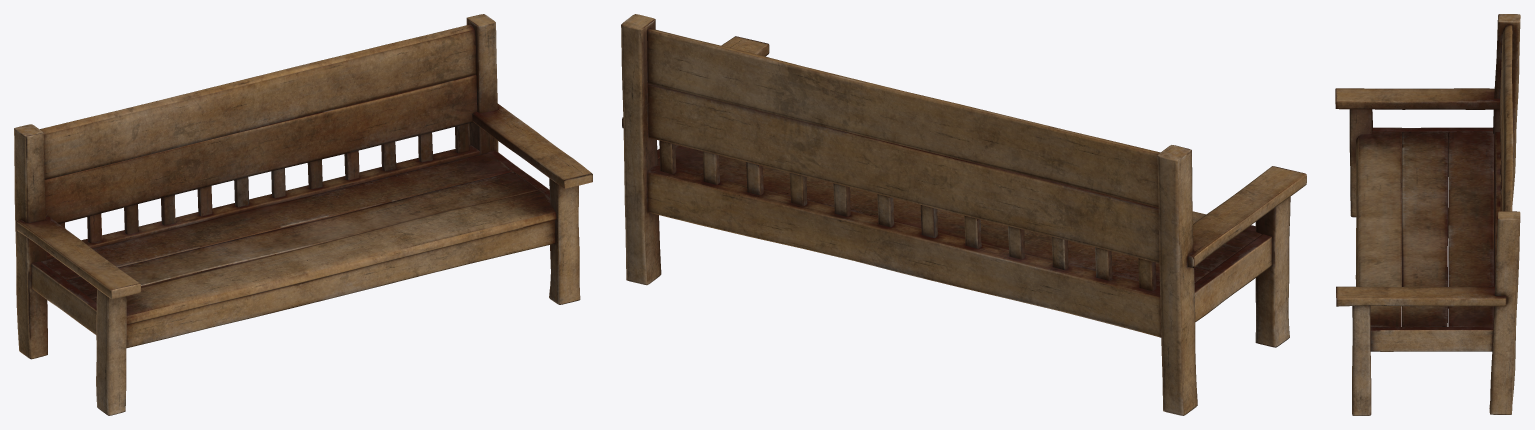
Rendered from banca.obj.
The picture shows the model from 3 angles, left to right: view 1: azimuth 30°, elevation 25°; view 2: azimuth 150°, elevation 25°; view 3: azimuth 270°, elevation 25°; orthographic projection. The views are drawn at different scales.
Parts seen in each view (by area): view 1: Cube.002_Cube.001; view 2: Cube.002_Cube.001; view 3: Cube.002_Cube.001.
Part boxes in pixels (x1=…): Cube.002_Cube.001: x1=14, y1=14, x2=592, y2=415; Cube.002_Cube.001: x1=621, y1=14, x2=1306, y2=415; Cube.002_Cube.001: x1=1335, y1=14, x2=1520, y2=415.
Bounding box in the file's own units: 3.45 × 1.5 × 1.28.
